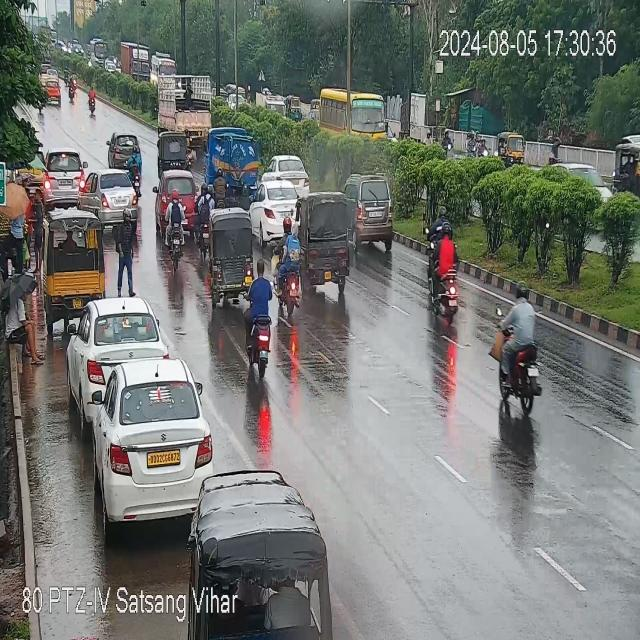2-wheelers: (487, 271, 539, 419), (419, 204, 464, 315), (246, 256, 272, 373), (278, 214, 302, 308), (166, 187, 183, 266), (199, 186, 212, 258), (87, 81, 98, 113), (69, 77, 75, 103)
auto: (43, 209, 107, 310), (42, 206, 105, 296), (299, 192, 350, 286), (211, 208, 252, 296), (615, 144, 640, 196), (158, 133, 185, 167), (499, 133, 522, 167)
bus: (318, 85, 390, 140), (151, 51, 176, 83)
car: (94, 363, 210, 513), (71, 302, 165, 408), (42, 142, 86, 204), (94, 165, 136, 221), (160, 170, 193, 220), (107, 134, 141, 165), (43, 75, 59, 107)
pedestrian: (6, 271, 42, 363), (0, 174, 32, 267), (112, 201, 138, 297)
truck: (200, 125, 258, 202), (157, 73, 212, 142), (117, 34, 149, 84)
